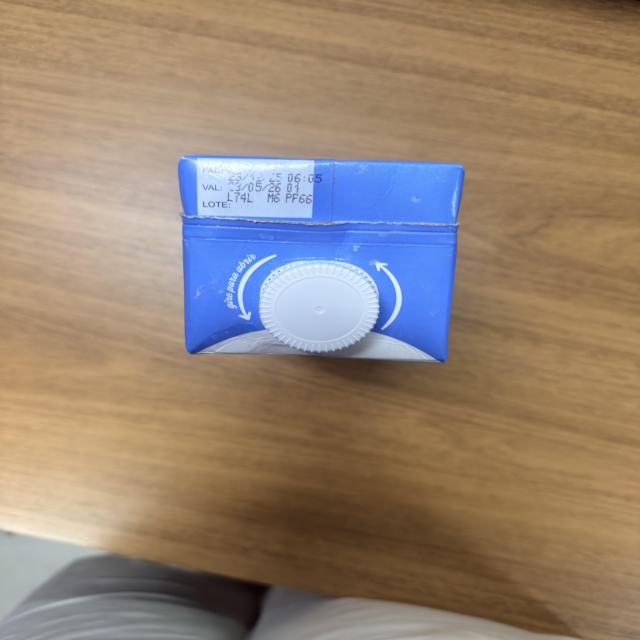Caixa de Leite: (173, 154, 465, 363)
